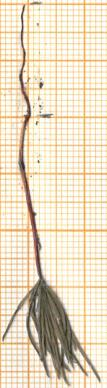flower: (0, 275, 104, 384)
root: (9, 3, 40, 116)
stem: (16, 115, 45, 282)
